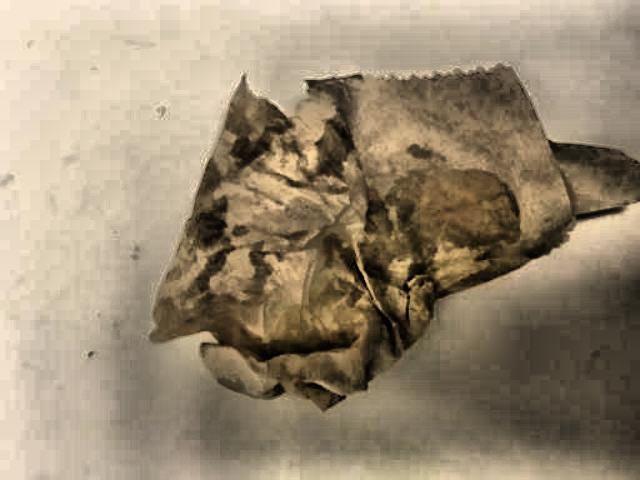Paper: (149, 45, 616, 428)
